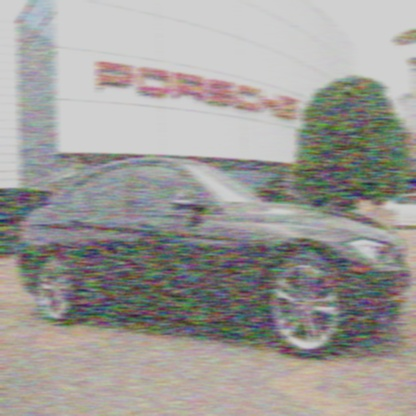Vehicle: (13, 147, 415, 365)
